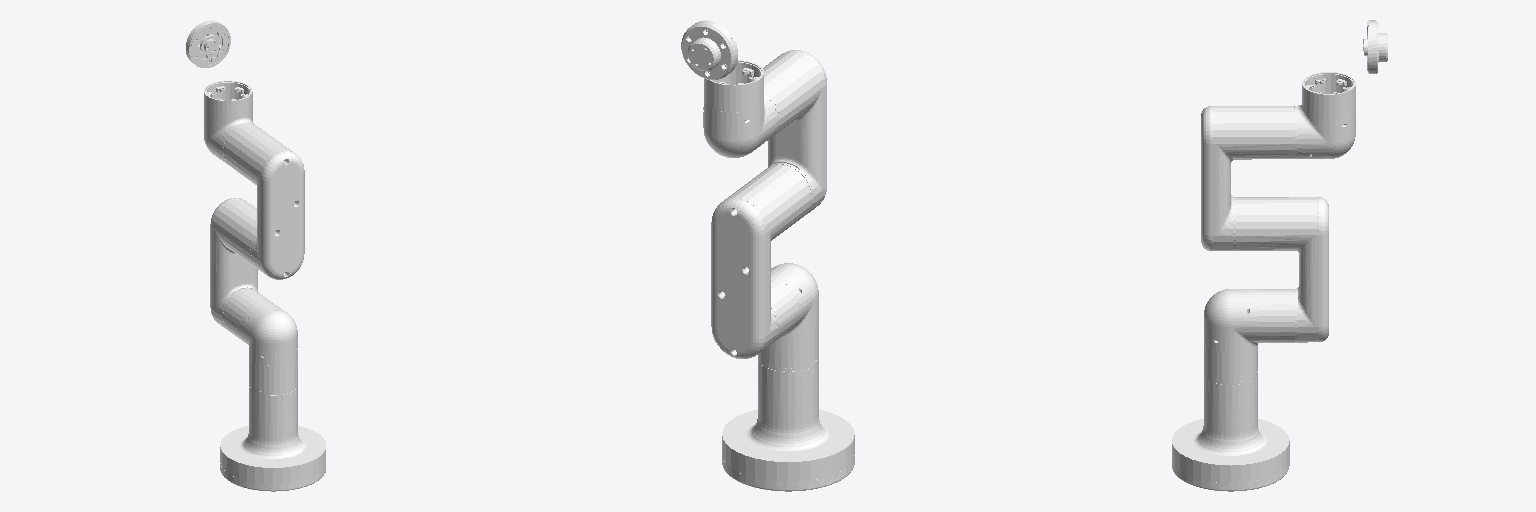
The robot description file, URDF, robot "完整装配":
<?xml version="1.0" encoding="utf-8"?>
<!-- This URDF was automatically created by SolidWorks to URDF Exporter! Originally created by Stephen Brawner (brawner@gmail.com) 
     Commit Version: 1.6.0-4-g7f85cfe  Build Version: 1.6.7995.38578
     For more information, please see http://wiki.ros.org/sw_urdf_exporter -->
<robot
  name="完整装配">
  <link
    name="base_link">
    <inertial>
      <origin
        xyz="-0.13389 -0.19197 -0.11963"
        rpy="0 0 0" />
      <mass
        value="0.12999" />
      <inertia
        ixx="0.00018844"
        ixy="4.397E-12"
        ixz="1.5065E-09"
        iyy="0.00025107"
        iyz="-2.3705E-12"
        izz="0.00018845" />
    </inertial>
    <visual>
      <origin
        xyz="0 0 0"
        rpy="0 0 0" />
      <geometry>
        <mesh
          filename="package://完整装配/meshes/base_link.STL" />
      </geometry>
      <material
        name="">
        <color
          rgba="1 1 1 1" />
      </material>
    </visual>
    <collision>
      <origin
        xyz="0 0 0"
        rpy="0 0 0" />
      <geometry>
        <mesh
          filename="package://完整装配/meshes/base_link.STL" />
      </geometry>
    </collision>
  </link>
  <link
    name="Link1">
    <inertial>
      <origin
        xyz="0.012534 0.15187 5.9143E-05"
        rpy="0 0 0" />
      <mass
        value="0.070437" />
      <inertia
        ixx="5.7546E-05"
        ixy="-2.2771E-05"
        ixz="-5.8032E-08"
        iyy="5.9167E-05"
        iyz="-1.1118E-08"
        izz="7.0925E-05" />
    </inertial>
    <visual>
      <origin
        xyz="0 0 0"
        rpy="0 0 0" />
      <geometry>
        <mesh
          filename="package://完整装配/meshes/Link1.STL" />
      </geometry>
      <material
        name="">
        <color
          rgba="1 1 1 1" />
      </material>
    </visual>
    <collision>
      <origin
        xyz="0 0 0"
        rpy="0 0 0" />
      <geometry>
        <mesh
          filename="package://完整装配/meshes/Link1.STL" />
      </geometry>
    </collision>
  </link>
  <joint
    name="joint1"
    type="revolute">
    <origin
      xyz="-0.13389 0.11963 -0.22152"
      rpy="1.5708 0 1.5803" />
    <parent
      link="base_link" />
    <child
      link="Link1" />
    <axis
      xyz="0 0 0" />
    <limit
      lower="-3.14"
      upper="3.14"
      effort="10"
      velocity="1" />
  </joint>
  <link
    name="Link2">
    <inertial>
      <origin
        xyz="0.069146 0.20168 -0.054879"
        rpy="0 0 0" />
      <mass
        value="0.10151" />
      <inertia
        ixx="0.00021943"
        ixy="1.766E-05"
        ixz="-3.0587E-05"
        iyy="0.00018807"
        iyz="6.6858E-05"
        izz="0.00011004" />
    </inertial>
    <visual>
      <origin
        xyz="0 0 0"
        rpy="0 0 0" />
      <geometry>
        <mesh
          filename="package://完整装配/meshes/Link2.STL" />
      </geometry>
      <material
        name="">
        <color
          rgba="1 1 1 1" />
      </material>
    </visual>
    <collision>
      <origin
        xyz="0 0 0"
        rpy="0 0 0" />
      <geometry>
        <mesh
          filename="package://完整装配/meshes/Link2.STL" />
      </geometry>
    </collision>
  </link>
  <joint
    name="joint2"
    type="revolute">
    <origin
      xyz="0.0002 0.085 -0.14722"
      rpy="1.0472 0 0" />
    <parent
      link="Link1" />
    <child
      link="Link2" />
    <axis
      xyz="0 0 0" />
    <limit
      lower="-3.14"
      upper="3.14"
      effort="10"
      velocity="1" />
  </joint>
  <link
    name="Link3">
    <inertial>
      <origin
        xyz="0.069146 0.20168 -0.054879"
        rpy="0 0 0" />
      <mass
        value="0.10151" />
      <inertia
        ixx="0.00021943"
        ixy="1.766E-05"
        ixz="-3.0587E-05"
        iyy="0.00018807"
        iyz="6.6858E-05"
        izz="0.00011004" />
    </inertial>
    <visual>
      <origin
        xyz="0 0 0"
        rpy="0 0 0" />
      <geometry>
        <mesh
          filename="package://完整装配/meshes/Link3.STL" />
      </geometry>
      <material
        name="">
        <color
          rgba="1 1 1 1" />
      </material>
    </visual>
    <collision>
      <origin
        xyz="0 0 0"
        rpy="0 0 0" />
      <geometry>
        <mesh
          filename="package://完整装配/meshes/Link3.STL" />
      </geometry>
    </collision>
  </link>
  <joint
    name="joint3"
    type="revolute">
    <origin
      xyz="0.0698 0.3065 0.058024"
      rpy="-1.0472 0 -3.1416" />
    <parent
      link="Link2" />
    <child
      link="Link3" />
    <axis
      xyz="0 0 0" />
    <limit
      lower="-3.14"
      upper="3.14"
      effort="10"
      velocity="1" />
  </joint>
  <link
    name="Link4">
    <inertial>
      <origin
        xyz="0.093367 0.27305 0.011508"
        rpy="0 0 0" />
      <mass
        value="0.051224" />
      <inertia
        ixx="3.1938E-05"
        ixy="1.2161E-09"
        ixz="-7.1829E-06"
        iyy="2.9037E-05"
        iyz="-1.9666E-08"
        izz="2.9661E-05" />
    </inertial>
    <visual>
      <origin
        xyz="0 0 0"
        rpy="0 0 0" />
      <geometry>
        <mesh
          filename="package://完整装配/meshes/Link4.STL" />
      </geometry>
      <material
        name="">
        <color
          rgba="1 1 1 1" />
      </material>
    </visual>
    <collision>
      <origin
        xyz="0 0 0"
        rpy="0 0 0" />
      <geometry>
        <mesh
          filename="package://完整装配/meshes/Link4.STL" />
      </geometry>
    </collision>
  </link>
  <joint
    name="joint4"
    type="revolute">
    <origin
      xyz="0.0698 -0.014925 -0.2257"
      rpy="2.618 0 -3.1416" />
    <parent
      link="Link3" />
    <child
      link="Link4" />
    <axis
      xyz="0 0 0" />
    <limit
      lower="-3.14"
      upper="3.14"
      effort="10"
      velocity="1" />
  </joint>
  <link
    name="Link5">
    <inertial>
      <origin
        xyz="0.10005 0.28205 0.088844"
        rpy="0 0 0" />
      <mass
        value="0.065023" />
      <inertia
        ixx="4.2585E-05"
        ixy="-5.59E-09"
        ixz="6.6659E-08"
        iyy="3.2345E-05"
        iyz="6.4785E-06"
        izz="5.2024E-05" />
    </inertial>
    <visual>
      <origin
        xyz="0 0 0"
        rpy="0 0 0" />
      <geometry>
        <mesh
          filename="package://完整装配/meshes/Link5.STL" />
      </geometry>
      <material
        name="">
        <color
          rgba="1 1 1 1" />
      </material>
    </visual>
    <collision>
      <origin
        xyz="0 0 0"
        rpy="0 0 0" />
      <geometry>
        <mesh
          filename="package://完整装配/meshes/Link5.STL" />
      </geometry>
    </collision>
  </link>
  <joint
    name="joint5"
    type="revolute">
    <origin
      xyz="0.373 0.173 0.0002"
      rpy="0 0 1.5708" />
    <parent
      link="Link4" />
    <child
      link="Link5" />
    <axis
      xyz="0 0 0" />
    <limit
      lower="-3.14"
      upper="3.14"
      effort="10"
      velocity="1" />
  </joint>
  <link
    name="Link6">
    <inertial>
      <origin
        xyz="0.1 0.22617 0.094652"
        rpy="0 0 0" />
      <mass
        value="0.019276" />
      <inertia
        ixx="3.9018E-06"
        ixy="1.0225E-13"
        ixz="-1.0325E-12"
        iyy="7.1403E-06"
        iyz="-1.2508E-09"
        izz="3.8295E-06" />
    </inertial>
    <visual>
      <origin
        xyz="0 0 0"
        rpy="0 0 0" />
      <geometry>
        <mesh
          filename="package://完整装配/meshes/Link6.STL" />
      </geometry>
      <material
        name="">
        <color
          rgba="1 1 1 1" />
      </material>
    </visual>
    <collision>
      <origin
        xyz="0 0 0"
        rpy="0 0 0" />
      <geometry>
        <mesh
          filename="package://完整装配/meshes/Link6.STL" />
      </geometry>
    </collision>
  </link>
  <joint
    name="joint6"
    type="revolute">
    <origin
      xyz="-0.032596 -0.0002 0.057007"
      rpy="0 0.48071 0" />
    <parent
      link="Link5" />
    <child
      link="Link6" />
    <axis
      xyz="0 0 0" />
    <limit
      lower="-3.14"
      upper="3.14"
      effort="10"
      velocity="1" />
  </joint>
</robot>

--- Render facts (derived) ---
3 views of the same robot in one strip: view 1: azimuth 30°, elevation 25°; view 2: azimuth 150°, elevation 25°; view 3: azimuth 270°, elevation 25° (orthographic).
Model 完整装配 with 7 links and 6 joints (6 revolute), rooted at base_link, posed every joint at zero.
Visible links, largest first — view 1: Link3, base_link, Link1, Link2, Link4, Link6; view 2: Link2, base_link, Link3, Link4, Link1, Link6; view 3: base_link, Link3, Link2, Link1, Link4, Link6.
Boxes of the visible links, x1,y1,x2,y2 form: Link3: [223, 124, 304, 279]; base_link: [220, 386, 325, 491]; Link1: [223, 289, 297, 394]; Link2: [210, 198, 257, 331]; Link4: [204, 81, 254, 164]; Link6: [186, 20, 230, 67]; Link2: [711, 164, 811, 358]; base_link: [722, 360, 854, 491]; Link3: [763, 50, 826, 214]; Link4: [703, 60, 778, 157]; Link1: [758, 263, 818, 371]; Link6: [681, 20, 737, 79]; base_link: [1172, 375, 1289, 491]; Link3: [1201, 106, 1294, 250]; Link2: [1236, 197, 1328, 342]; Link1: [1204, 289, 1294, 384]; Link4: [1294, 72, 1355, 158]; Link6: [1363, 20, 1387, 73].
Bounding box of the posed robot: 0.12 × 0.2205 × 0.4989 m (x, y, z).
Meshes: 7 distinct files referenced, 6 mesh visuals loaded (6 binary STL); not drawn: 1 (reference not matched to a file when rendering).
